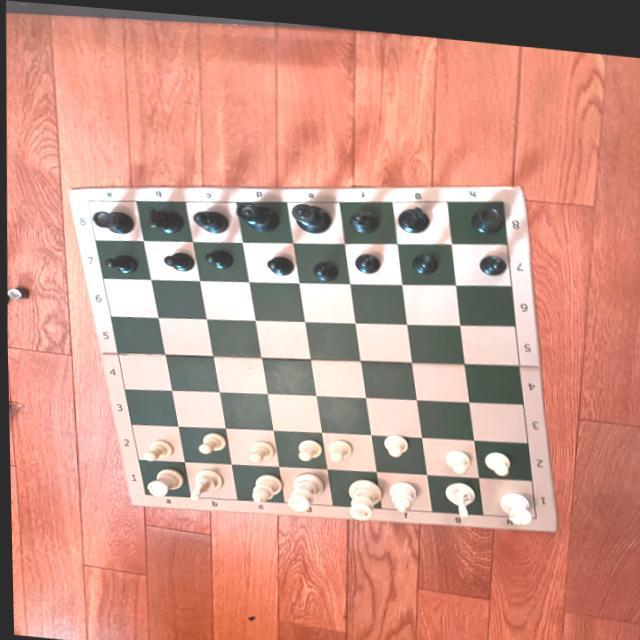chess-table-corners: (492, 189, 514, 201), (78, 195, 97, 208), (527, 501, 543, 516), (135, 486, 151, 498)
